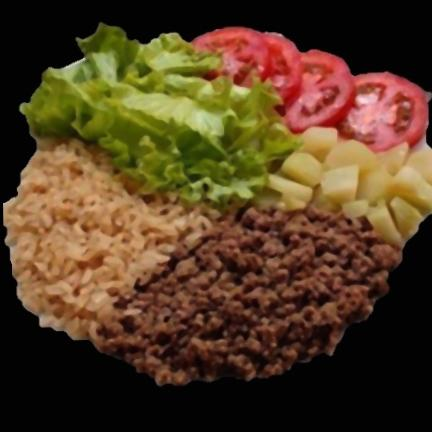meat: (95, 207, 401, 385)
potato: (268, 128, 431, 244)
rice: (3, 140, 218, 339)
salad: (21, 26, 300, 207)
tomato: (193, 27, 428, 151)
